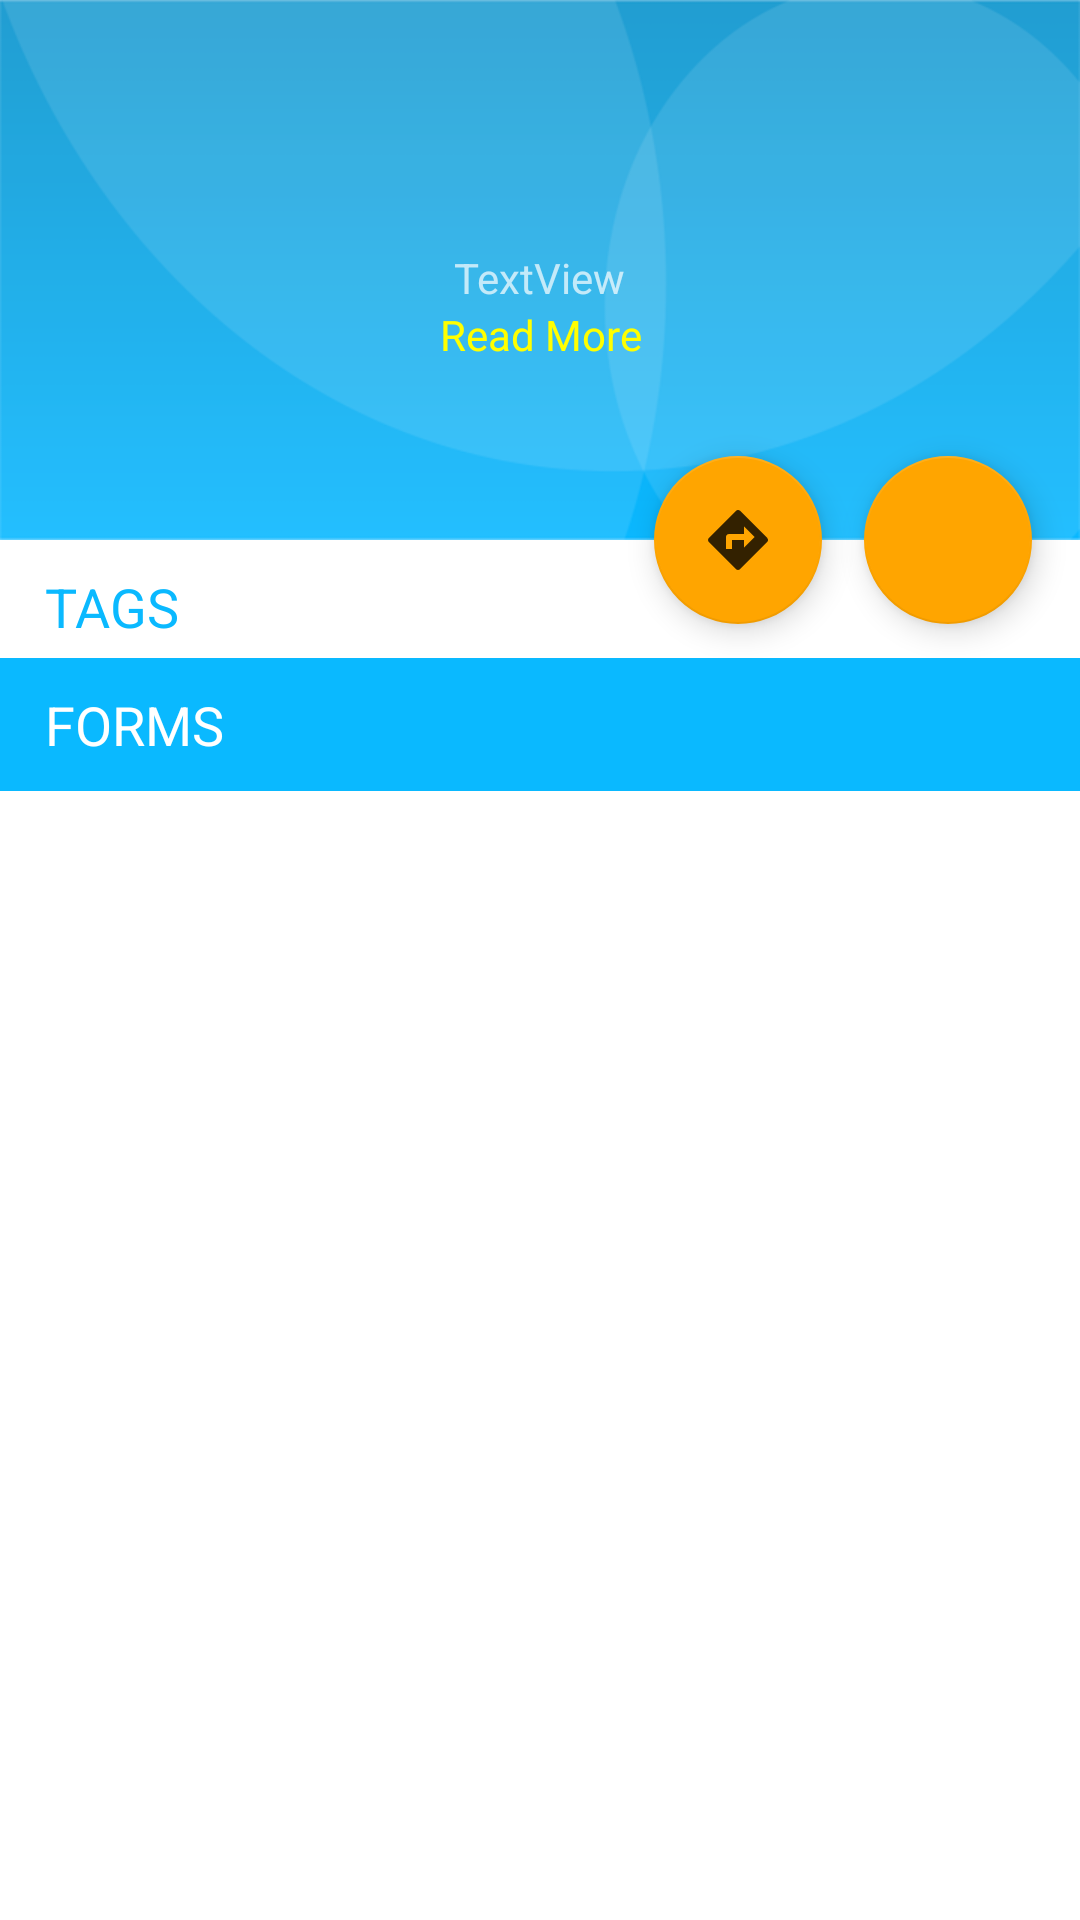

Screen size 1080px x 1920px. Icon name, then its center in pixels as [x,y]:
direction: [738,540]
